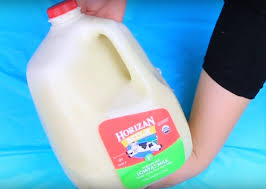milk: (28, 7, 196, 187)
